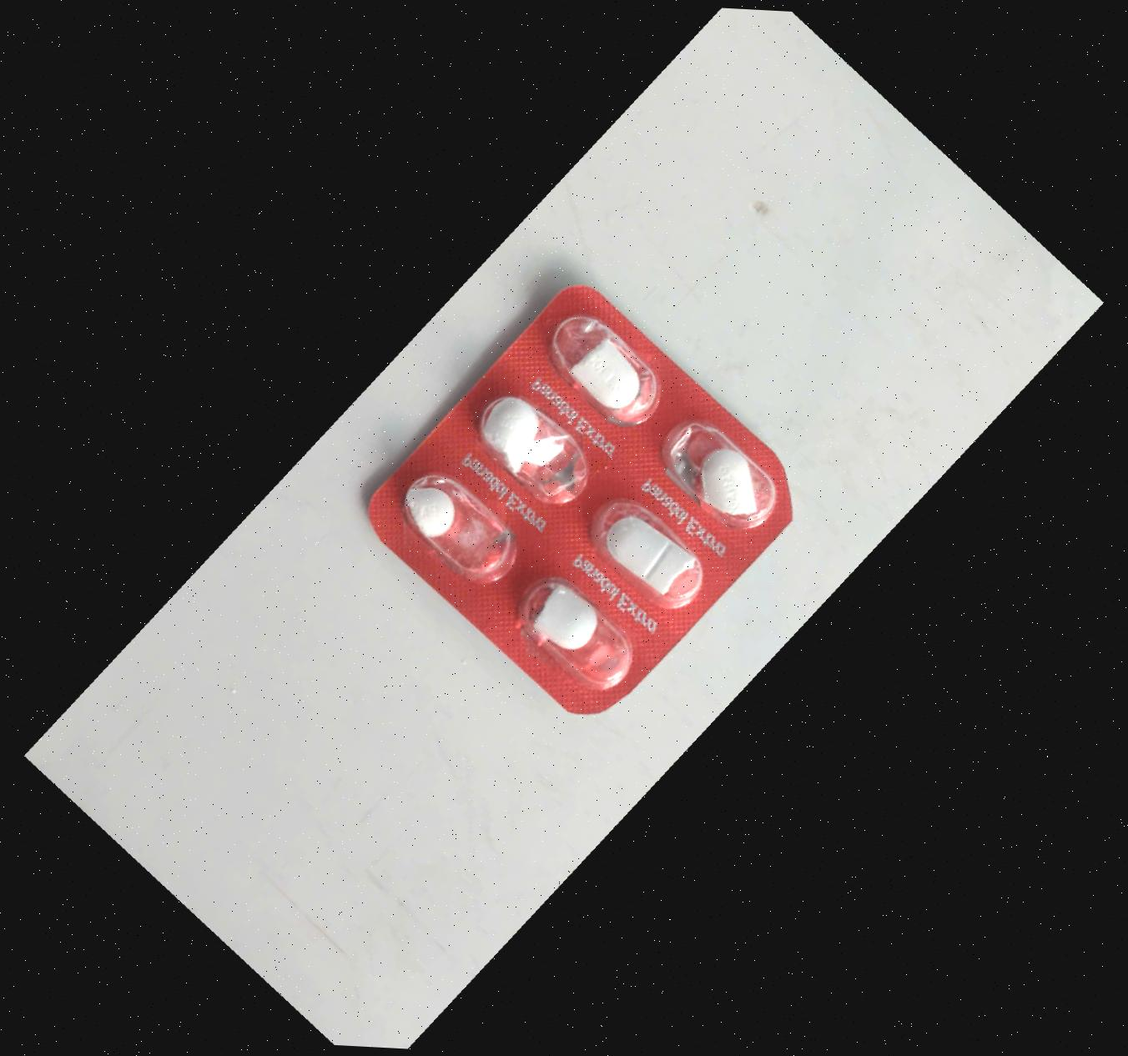Partial: (567, 476, 731, 639), (379, 448, 542, 611), (452, 365, 615, 528), (495, 551, 658, 714), (526, 288, 689, 451), (634, 386, 798, 548)
